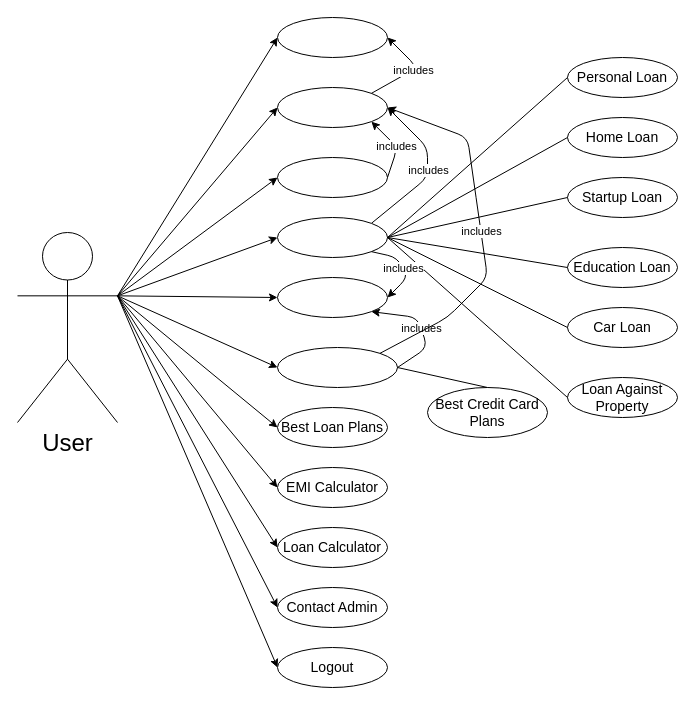
The diagram is 695 pixels wide and 705 high, and some of its shapes have lost their labels. Here are the shapes that lost their labels. From the top down, the centre of each, then its label:
[332,37]: Sign Up
[332,107]: Login
[332,177]: Compare and Apply
[332,237]: Apply For Loan
[332,297]: Eligibility Check
[337,367]: Apply For Credit Card
